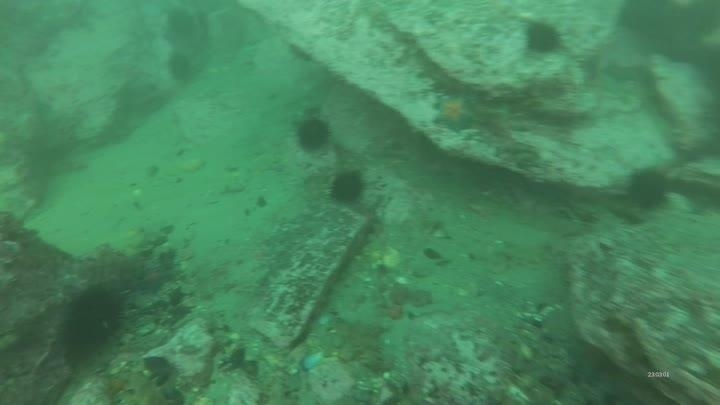echinus: (56, 281, 131, 360), (624, 167, 672, 213), (293, 114, 334, 155), (522, 19, 564, 57), (327, 168, 367, 207), (163, 6, 200, 42), (165, 50, 197, 86)
starfish: (564, 336, 612, 384), (430, 91, 479, 134), (134, 262, 175, 295)
